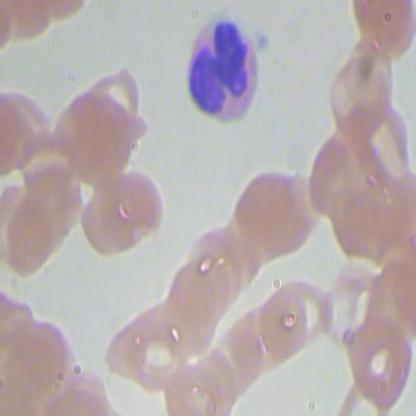Platelets: (255, 31, 270, 52)
WBC: (181, 10, 263, 129)
